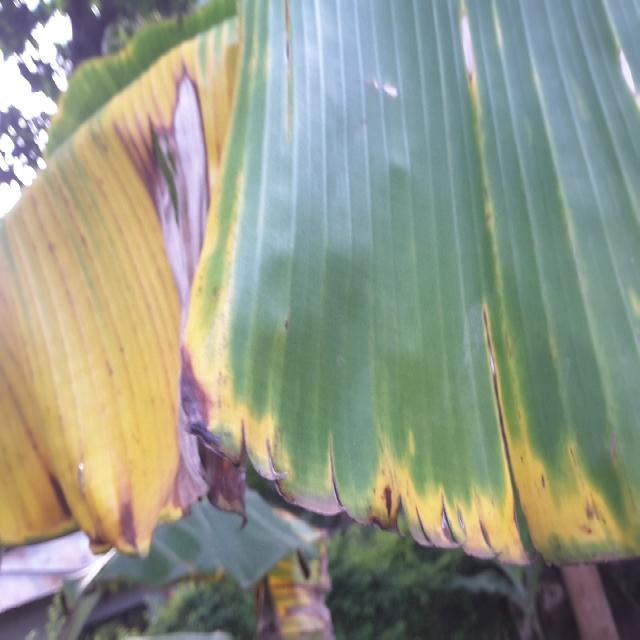Cordana: (0, 2, 270, 554), (264, 302, 640, 640), (442, 0, 507, 126), (611, 26, 640, 123)
